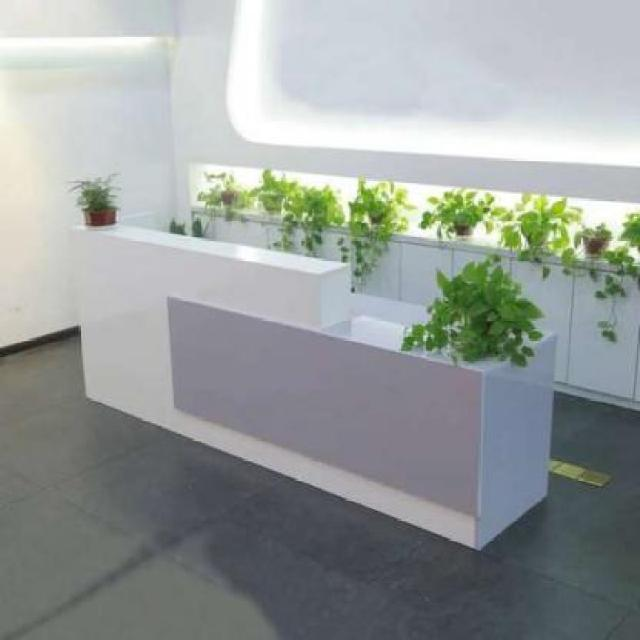frontdesk: (61, 211, 562, 549)
